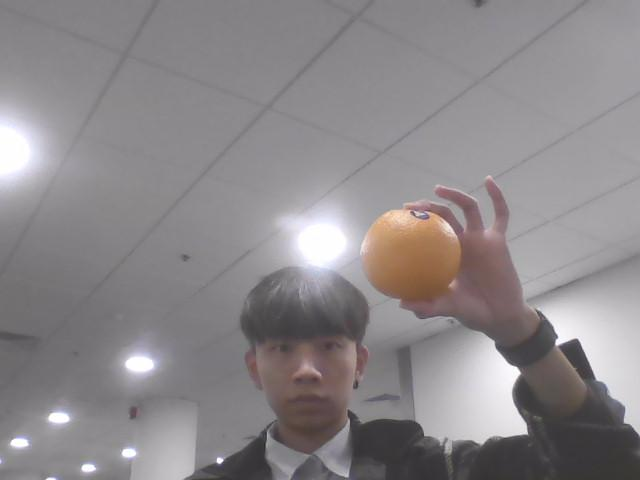orange: (362, 209, 461, 301)
